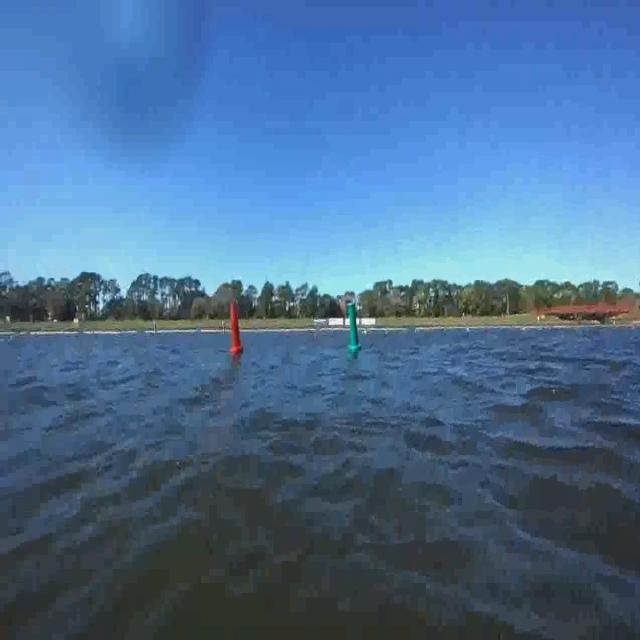green-column-buoy: (347, 302, 362, 353)
red-column-buoy: (228, 303, 243, 356)
